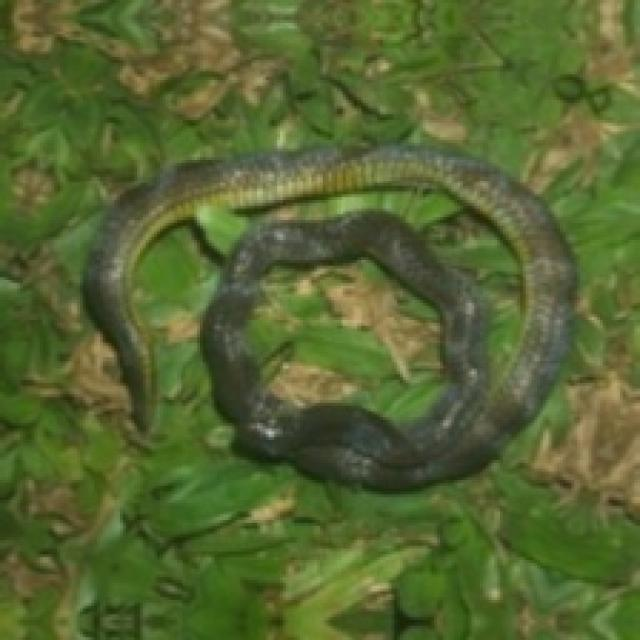gervais worm snake: (83, 146, 574, 489), (243, 254, 451, 429)
